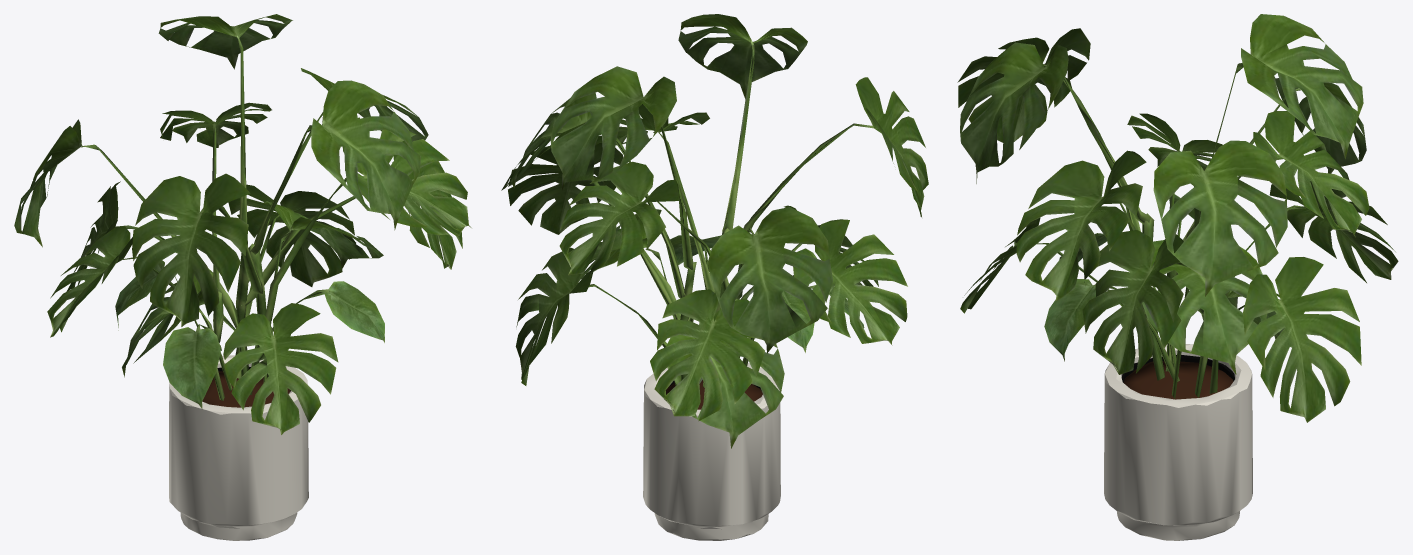
The model's file is Small Monstera.fbx.
3 renders of one model, left to right at view 1: azimuth 30°, elevation 25°; view 2: azimuth 150°, elevation 25°; view 3: azimuth 270°, elevation 25°, orthographic. The views are drawn at different scales.
Visible parts, largest first — view 1: Leaves3, Pot.003, Leaves, Leaves2, Soil.003; view 2: Leaves, Leaves2, Pot.003, Leaves3; view 3: Leaves, Leaves3, Pot.003, Leaves2, Soil.003.
Boxes of the visible parts, <box> form: Leaves3: <box>115,80,471,434</box>; Pot.003: <box>169,355,308,540</box>; Leaves: <box>66,14,462,378</box>; Leaves2: <box>14,102,271,350</box>; Soil.003: <box>202,371,290,407</box>; Leaves: <box>501,66,784,448</box>; Leaves2: <box>559,161,907,353</box>; Pot.003: <box>643,362,780,540</box>; Leaves3: <box>558,14,928,387</box>; Leaves: <box>1082,14,1398,422</box>; Leaves3: <box>957,28,1266,398</box>; Pot.003: <box>1104,344,1252,540</box>; Leaves2: <box>1127,77,1369,278</box>; Soil.003: <box>1123,361,1233,399</box>.
Bounding box in the file's own units: 43.9 × 49.31 × 39.34.
